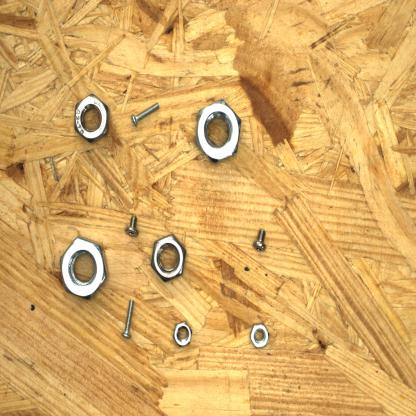screw: (128, 96, 163, 129), (116, 294, 138, 343), (251, 223, 272, 256), (122, 212, 141, 240)
